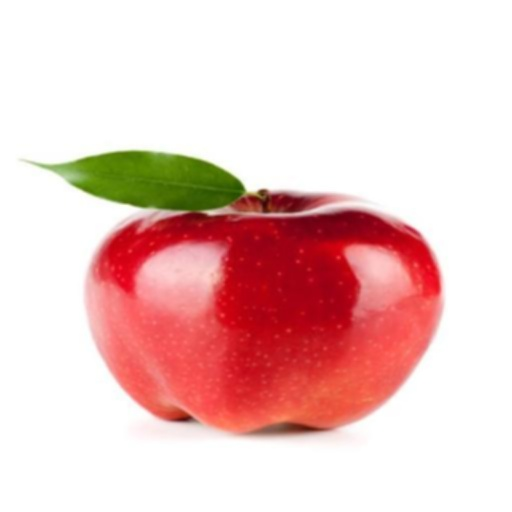fruit: (40, 148, 138, 499)
